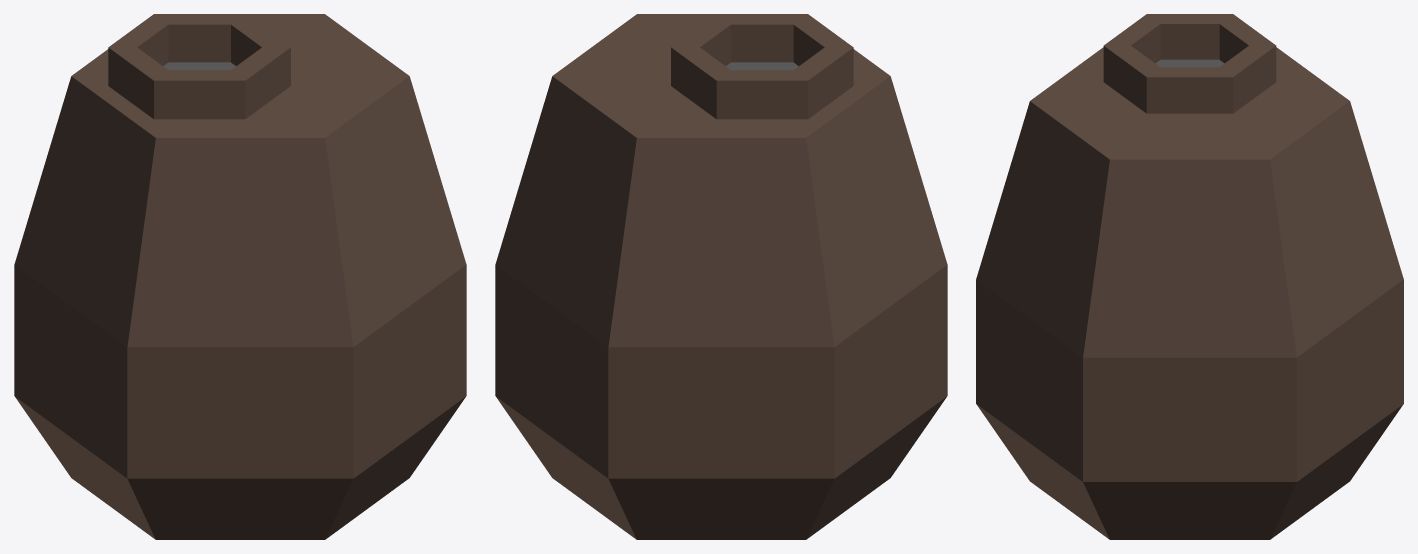
File: cup_02.fbx
The picture shows the model from 3 angles, left to right: view 1: azimuth 30°, elevation 25°; view 2: azimuth 150°, elevation 25°; view 3: azimuth 270°, elevation 25°; orthographic projection. The views are drawn at different scales.
Visible parts, largest first — view 1: bottle_05; view 2: bottle_05; view 3: bottle_05.
Boxes of the visible parts, x1,y1,x2,y2 form: bottle_05: (14,14,466,539); bottle_05: (495,14,947,539); bottle_05: (976,14,1403,539).
Bounding box in the file's own units: 22.4 × 27.82 × 25.86.
